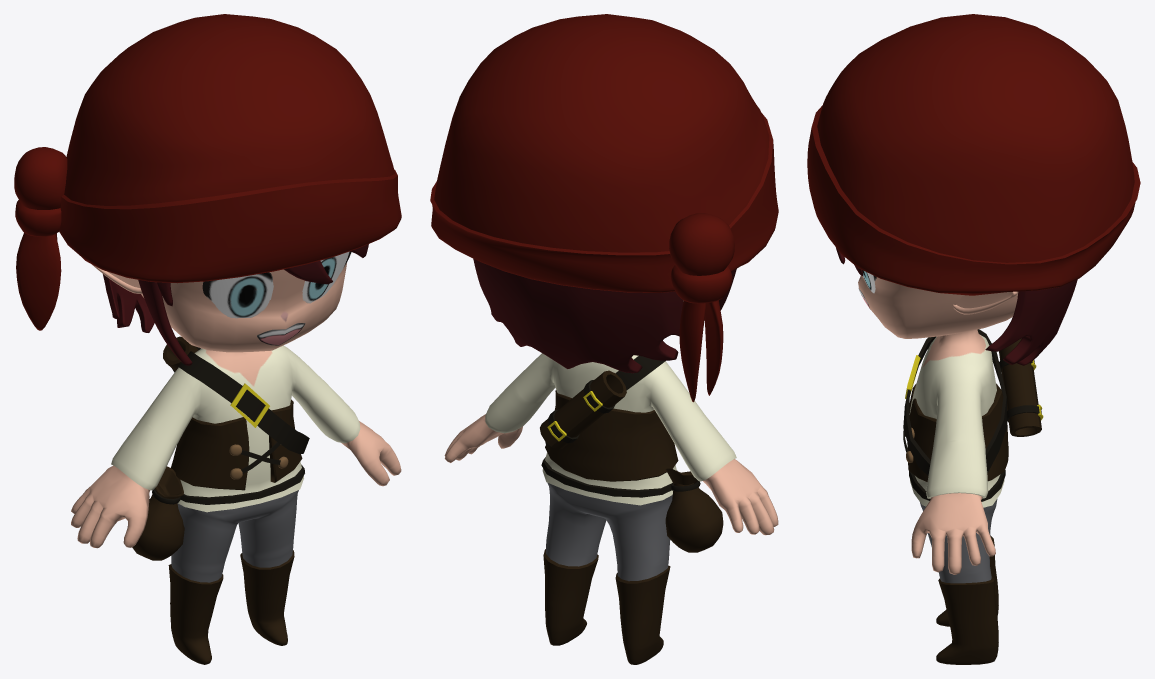
File: SM_Player_CM.fbx
The picture shows the model from 3 angles, left to right: view 1: azimuth 30°, elevation 25°; view 2: azimuth 150°, elevation 25°; view 3: azimuth 270°, elevation 25°; orthographic projection.
Visible parts, largest first — view 1: Lula, Lula_Eye_Right, Lula_Eye_Left, Lula_Mouth; view 2: Lula; view 3: Lula.
Boxes of the visible parts, x1,y1,x2,y2 form: Lula: (14, 14, 401, 664); Lula_Eye_Right: (202, 272, 273, 318); Lula_Eye_Left: (302, 251, 351, 303); Lula_Mouth: (257, 323, 305, 345); Lula: (430, 14, 778, 664); Lula: (807, 14, 1140, 664).
Size of the model in its own units: 109 by 194 by 95.91.
Materials: 2 (2 with a texture image).
